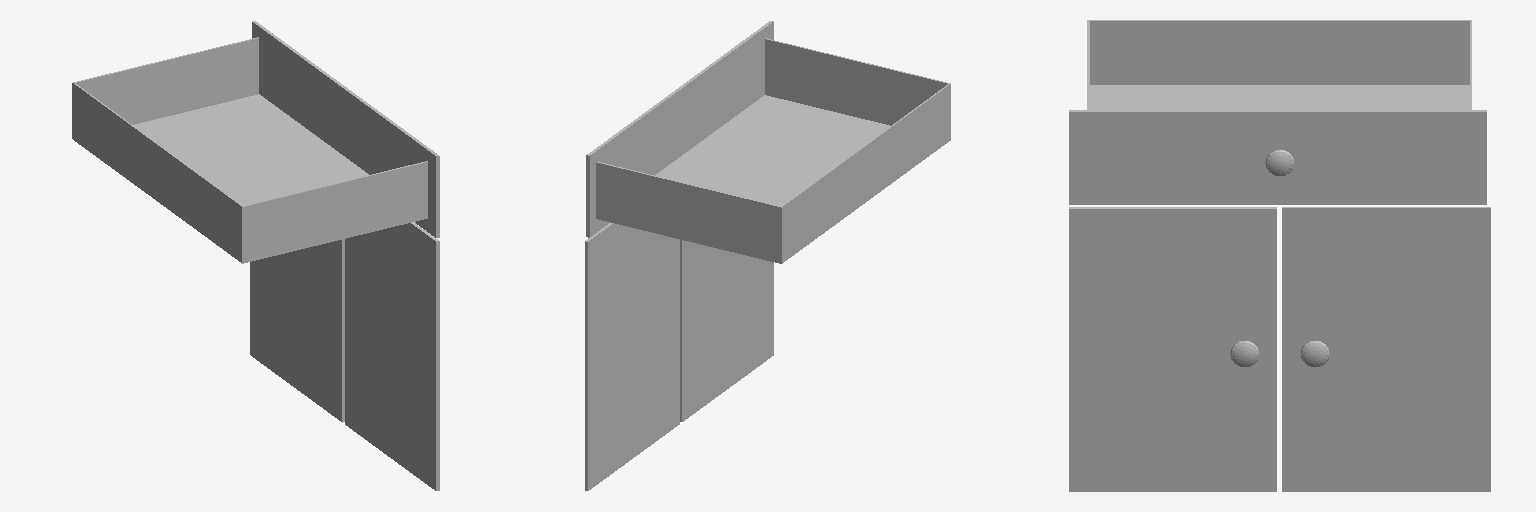
URDF robot description (my_urdf):
<?xml version='1.0' encoding='utf-8'?>
<robot name="my_urdf"><link name="base_link"><visual><origin xyz="0 0 0" rpy="0.0 0.0 0.0" /><material name="white"><color rgba="0.8 0.8 0.8 1" /></material><geometry><mesh filename="../meshes/cabinet.obj" scale="1 1 1" /></geometry></visual><collision><origin xyz="0 0 0" rpy="0.0 0.0 0.0" /><geometry><mesh filename="../meshes/cabinet.obj" scale="1 1 1" /></geometry></collision><inertial><mass value="1" /><inertia ixx="1e-4" ixy="0" ixz="0" iyy="1e-4" iyz="0" izz="1e-4" /></inertial></link><link name="drawer0"><visual><origin xyz="0 0 0" rpy="0 0 0" /><material name="white"><color rgba="0.8 0.8 0.8 1" /></material><geometry><mesh filename="../meshes/parts/drawer.obj" scale="1 3.98 0.98" /></geometry></visual><collision><origin xyz="0 0 0" rpy="0 0 0" /><geometry><mesh filename="../meshes/parts/drawer.obj" scale="1 3.98 0.98" /></geometry></collision><inertial><mass value="0.2" /><inertia ixx="1e-4" ixy="0" ixz="0" iyy="1e-4" iyz="0" izz="1e-4" /></inertial></link><joint name="drawer0_to_base_link" type="prismatic"><axis xyz="1 0 0" /><limit effort="5" lower="0" upper="0.4" velocity="2.283" /><origin xyz="0 0.0 0.75" rpy="0.0 0.0 0.0" /><parent link="base_link" /><child link="drawer0" /></joint><link name="doorR1"><visual><origin xyz="0 0 0" rpy="0 0 0" /><material name="white"><color rgba="0.8 0.8 0.8 1" /></material><geometry><mesh filename="../meshes/parts/doorR.obj" scale="1 1.99 2.99" /></geometry></visual><collision><origin xyz="0 0 0" rpy="0 0 0" /><geometry><mesh filename="../meshes/parts/doorR.obj" scale="1 1.99 2.99" /></geometry></collision><inertial><mass value="0.2" /><inertia ixx="1e-4" ixy="0" ixz="0" iyy="1e-4" iyz="0" izz="1e-4" /></inertial></link><joint name="doorR1_to_base_link" type="revolute"><axis xyz="0 0 1" /><limit effort="5" lower="0" upper="1.57" velocity="2.283" /><origin xyz="0 1.0 0.0" rpy="-0.0 -0.0 -0.0" /><parent link="base_link" /><child link="doorR1" /></joint><link name="doorL2"><visual><origin xyz="0 0 0" rpy="0 0 0" /><material name="white"><color rgba="0.8 0.8 0.8 1" /></material><geometry><mesh filename="../meshes/parts/doorL.obj" scale="1 1.99 2.99" /></geometry></visual><collision><origin xyz="0 0 0" rpy="0 0 0" /><geometry><mesh filename="../meshes/parts/doorL.obj" scale="1 1.99 2.99" /></geometry></collision><inertial><mass value="0.2" /><inertia ixx="1e-4" ixy="0" ixz="0" iyy="1e-4" iyz="0" izz="1e-4" /></inertial></link><joint name="doorL2_to_base_link" type="revolute"><axis xyz="0 0 1" /><limit effort="5" lower="-1.57" upper="0" velocity="2.283" /><origin xyz="0 0.0 0.0" rpy="0.0 0.0 0.0" /><parent link="base_link" /><child link="doorL2" /></joint><link name="knob3"><visual><origin xyz="0 0 0" rpy="0 0 0" /><material name="white"><color rgba="0.8 0.8 0.8 1" /></material><geometry><mesh filename="../meshes/parts/knob.obj" scale="1 1 1" /></geometry></visual><collision><origin xyz="0 0 0" rpy="0 0 0" /><geometry><mesh filename="../meshes/parts/knob.obj" scale="1 1 1" /></geometry></collision><inertial><mass value="0.2" /><inertia ixx="1e-4" ixy="0" ixz="0" iyy="1e-4" iyz="0" izz="1e-4" /></inertial></link><joint name="knob3_to_drawer0" type="fixed"><axis xyz="0 0 1" /><limit effort="5" lower="-1.57" upper="0" velocity="2.283" /><origin xyz="0 0.5 0.125" rpy="1.5707963267948963 0.0 0.0" /><parent link="drawer0" /><child link="knob3" /></joint><link name="knob4"><visual><origin xyz="0 0 0" rpy="0 0 0" /><material name="white"><color rgba="0.8 0.8 0.8 1" /></material><geometry><mesh filename="../meshes/parts/knob.obj" scale="1 1 1" /></geometry></visual><collision><origin xyz="0 0 0" rpy="0 0 0" /><geometry><mesh filename="../meshes/parts/knob.obj" scale="1 1 1" /></geometry></collision><inertial><mass value="0.2" /><inertia ixx="1e-4" ixy="0" ixz="0" iyy="1e-4" iyz="0" izz="1e-4" /></inertial></link><joint name="knob4_to_doorR1" type="fixed"><axis xyz="1 0 0" /><limit effort="5" lower="-1.57" upper="0" velocity="2.283" /><origin xyz="0 -0.4166666666666667 0.375" rpy="0.0 0.0 0.0" /><parent link="doorR1" /><child link="knob4" /></joint><link name="knob5"><visual><origin xyz="0 0 0" rpy="0 0 0" /><material name="white"><color rgba="0.8 0.8 0.8 1" /></material><geometry><mesh filename="../meshes/parts/knob.obj" scale="1 1 1" /></geometry></visual><collision><origin xyz="0 0 0" rpy="0 0 0" /><geometry><mesh filename="../meshes/parts/knob.obj" scale="1 1 1" /></geometry></collision><inertial><mass value="0.2" /><inertia ixx="1e-4" ixy="0" ixz="0" iyy="1e-4" iyz="0" izz="1e-4" /></inertial></link><joint name="knob5_to_doorL2" type="fixed"><axis xyz="1 0 0" /><limit effort="5" lower="-1.57" upper="0" velocity="2.283" /><origin xyz="0 0.4166666666666667 0.375" rpy="0.0 0.0 0.0" /><parent link="doorL2" /><child link="knob5" /></joint></robot>

--- Render facts (derived) ---
Views: 3 orthographic renders of the robot side by side, from view 1: azimuth 30°, elevation 25°; view 2: azimuth 150°, elevation 25°; view 3: azimuth 270°, elevation 25°.
Robot: my_urdf — 7 links, 6 joints (2 revolute, 1 prismatic, 3 fixed); root link base_link; default pose: every joint at zero.
Visible links, largest first — view 1: drawer0, doorL2, doorR1; view 2: drawer0, doorR1, doorL2; view 3: drawer0, doorR1, doorL2, knob4, knob3, knob5.
Link boxes in pixels (left/top/right/bottom): drawer0: left=72, top=21, right=439, bottom=263; doorL2: left=345, top=222, right=439, bottom=490; doorR1: left=250, top=239, right=344, bottom=422; drawer0: left=586, top=21, right=950, bottom=263; doorR1: left=585, top=223, right=679, bottom=490; doorL2: left=680, top=240, right=773, bottom=421; drawer0: left=1069, top=20, right=1486, bottom=204; doorR1: left=1282, top=207, right=1490, bottom=491; doorL2: left=1069, top=207, right=1276, bottom=491; knob4: left=1301, top=341, right=1329, bottom=367; knob3: left=1265, top=150, right=1294, bottom=176; knob5: left=1230, top=341, right=1258, bottom=367.
Size in the robot's own frame: 0.6304 by 1 by 0.9929 metres.
Meshes: 5 distinct files referenced, 6 mesh visuals loaded (4 OBJ); not drawn: 1 (reference not matched to a file when rendering).